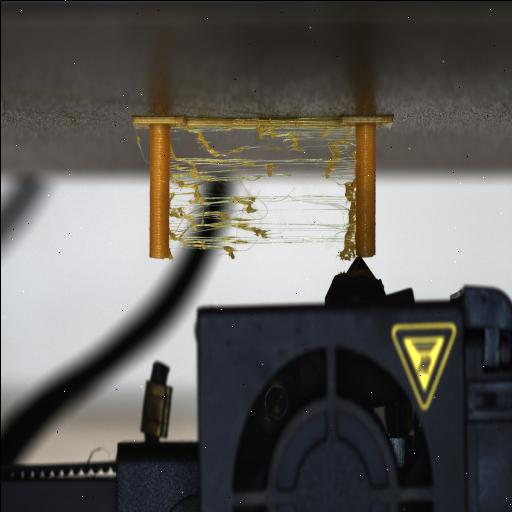stringing: (168, 125, 357, 259)
